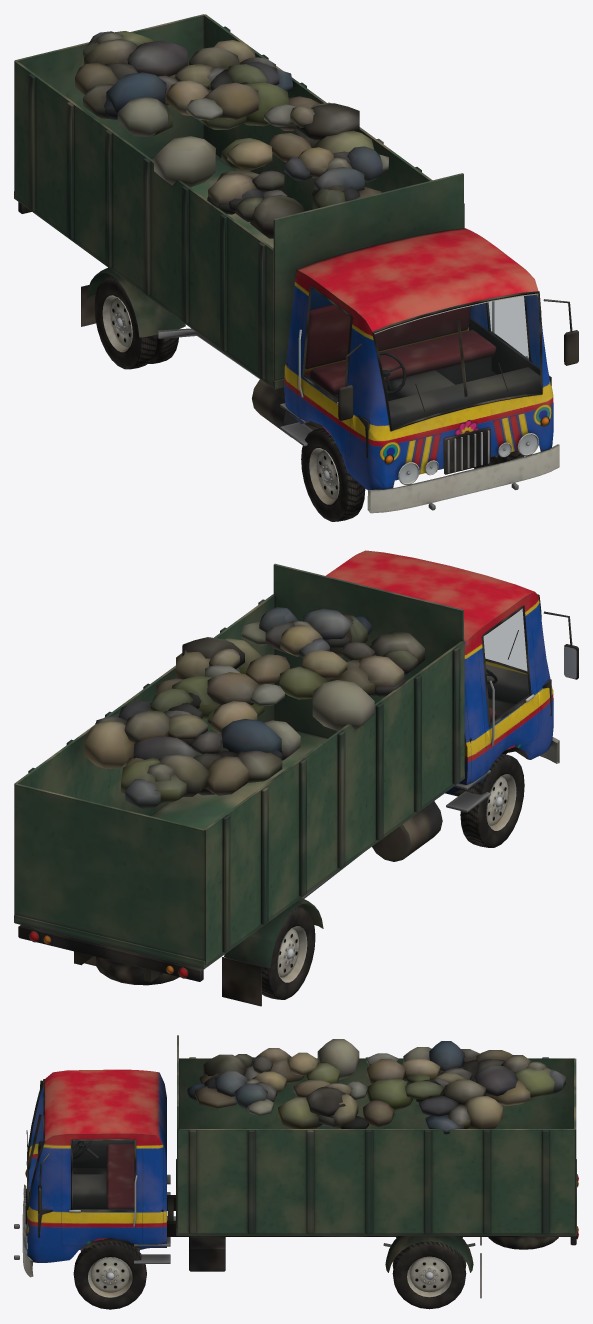
Rendered from garbage_truck.glb.
3 views of the same model, one above another, from view 1: azimuth 30°, elevation 25°; view 2: azimuth 150°, elevation 25°; view 3: azimuth 270°, elevation 25° (orthographic). The views are drawn at different scales.
Visible parts, largest first — view 1: body, glass, door_D, wheel_RR, wheel_FR, door_D_glass; view 2: body, door_D, wheel_FR, door_D_glass, wheel_RR, glass; view 3: body, glass, wheel_RL, wheel_FL, door_D.
Part boxes in pixels (x1,y1,x2,y2): body: (14,14,578,513); glass: (375,294,539,482); door_D: (298,283,361,470); wheel_RR: (94,276,178,369); wheel_FR: (301,428,365,521); door_D_glass: (304,289,349,400); body: (14,550,578,1006); door_D: (478,599,540,777); wheel_FR: (460,754,524,847); door_D_glass: (484,609,529,724); wheel_RR: (262,906,315,999); glass: (484,610,526,670); body: (14,1035,578,1298); glass: (23,1086,133,1242); wheel_RL: (392,1241,466,1309); wheel_FL: (73,1241,146,1309); door_D: (73,1140,134,1167).
Size of the model in its own units: 2.89 by 3.22 by 7.68.
2 materials, 1 textured.
